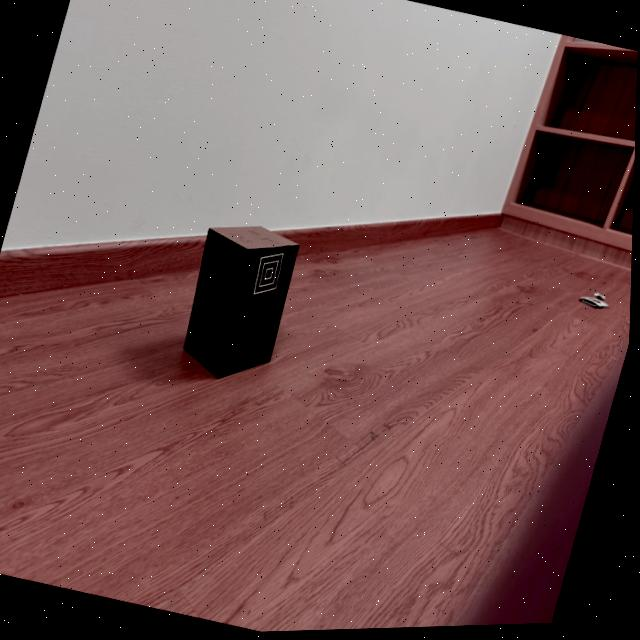BULLSEYE: (249, 246, 291, 304)
